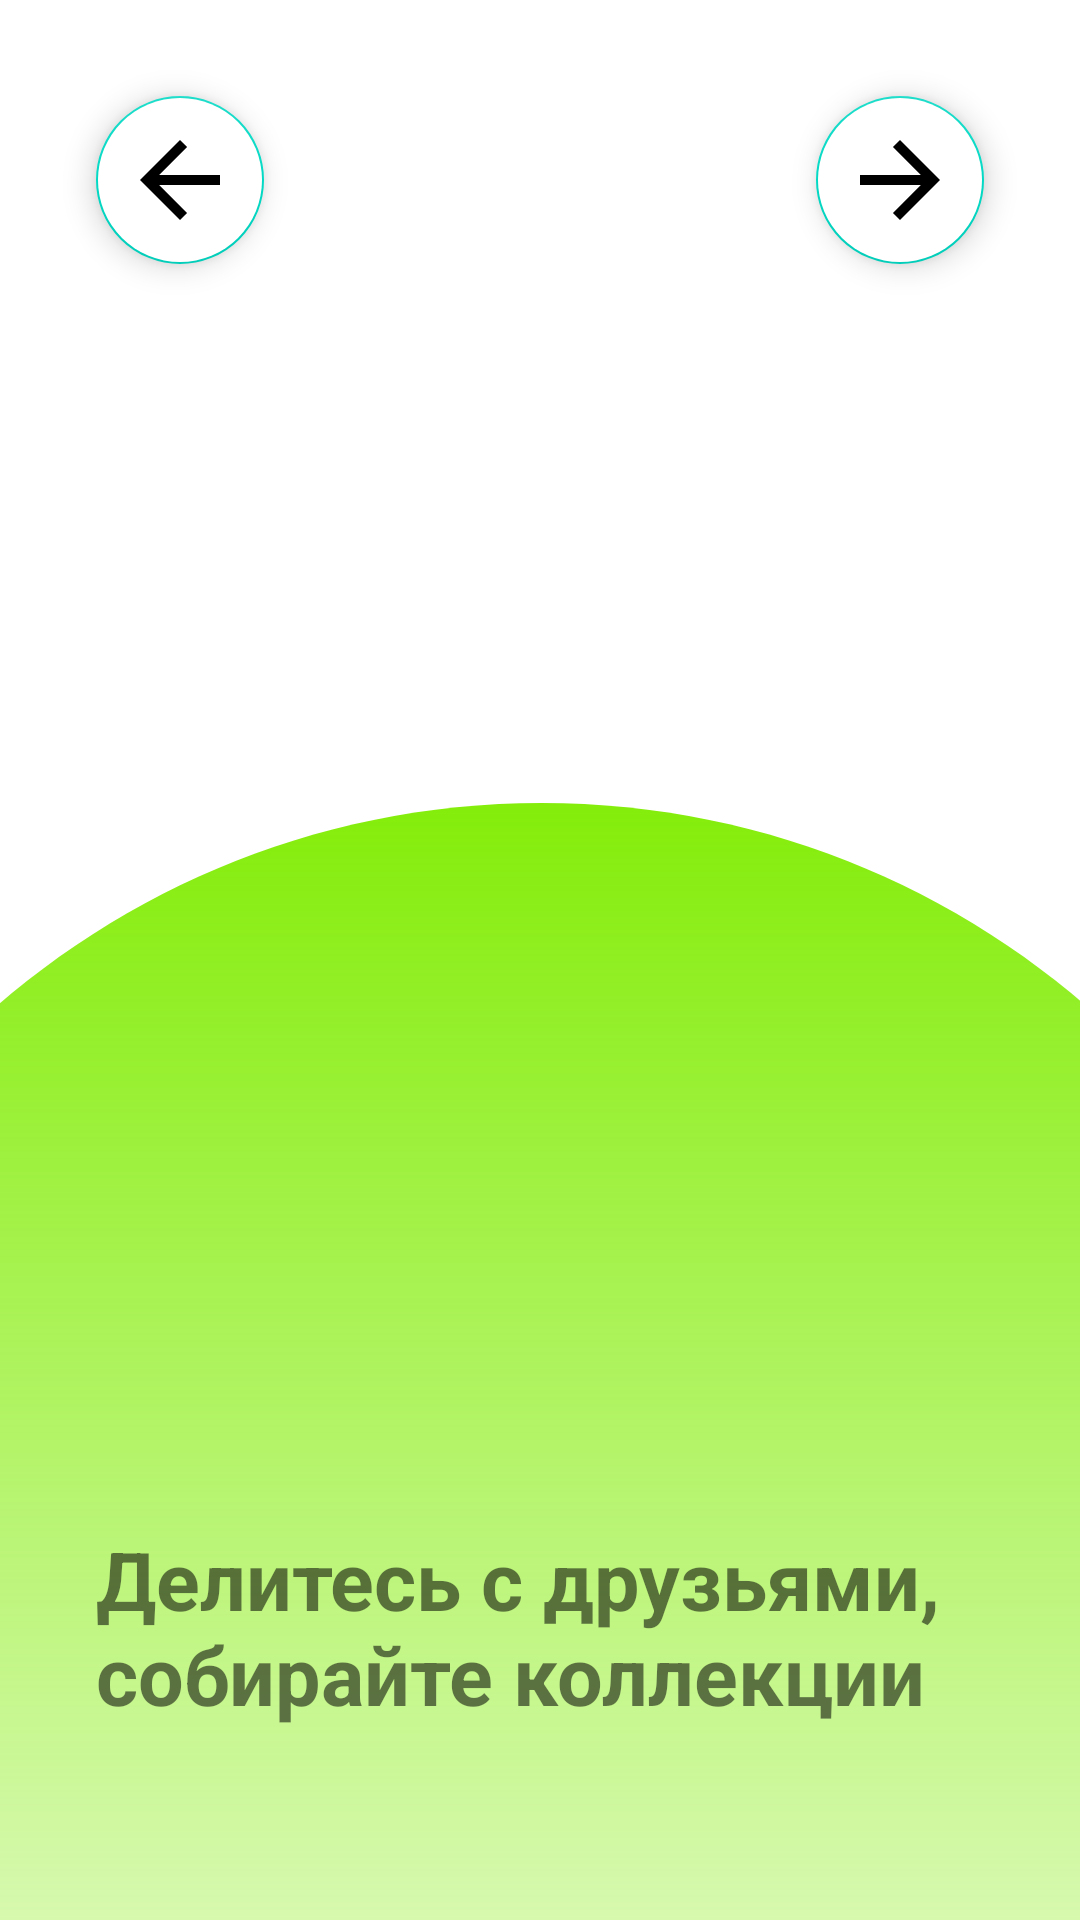

Point at icon controls on the screen. Image size 1080w x 1920h, points as (x,y).
arrow back: (180,180)
arrow forward: (900,180)
